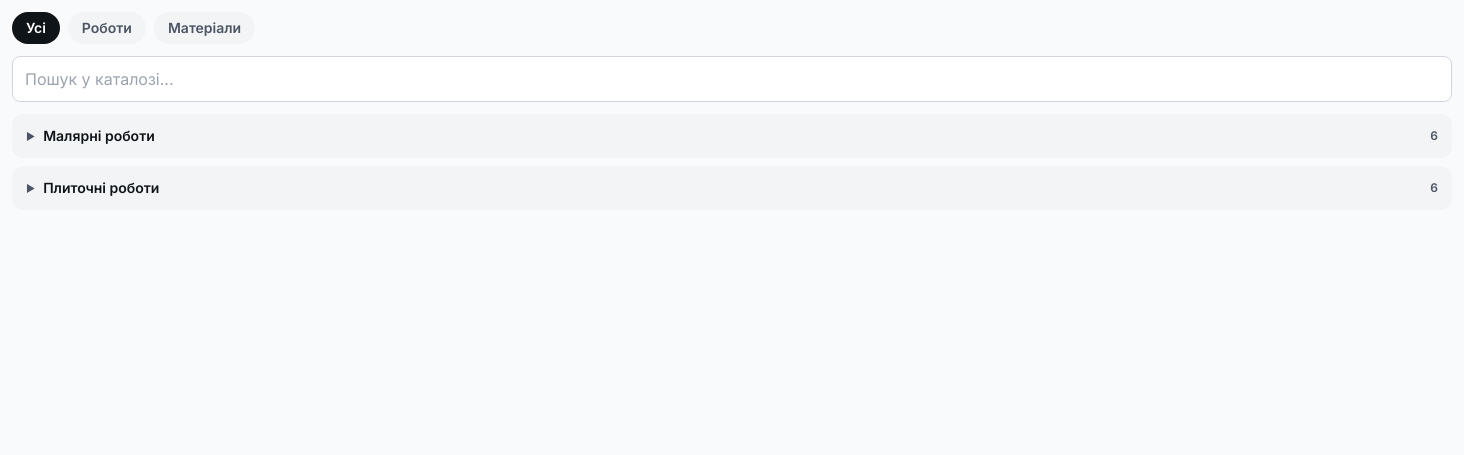
Test: CatalogPicker — categories are the structure › a folder collapsed while browsing cannot swallow a search hit
Click the button with test id "catalog-category" showing "▶ Малярні роботи 6". click: (99, 136)
box: [12,114,1452,158]
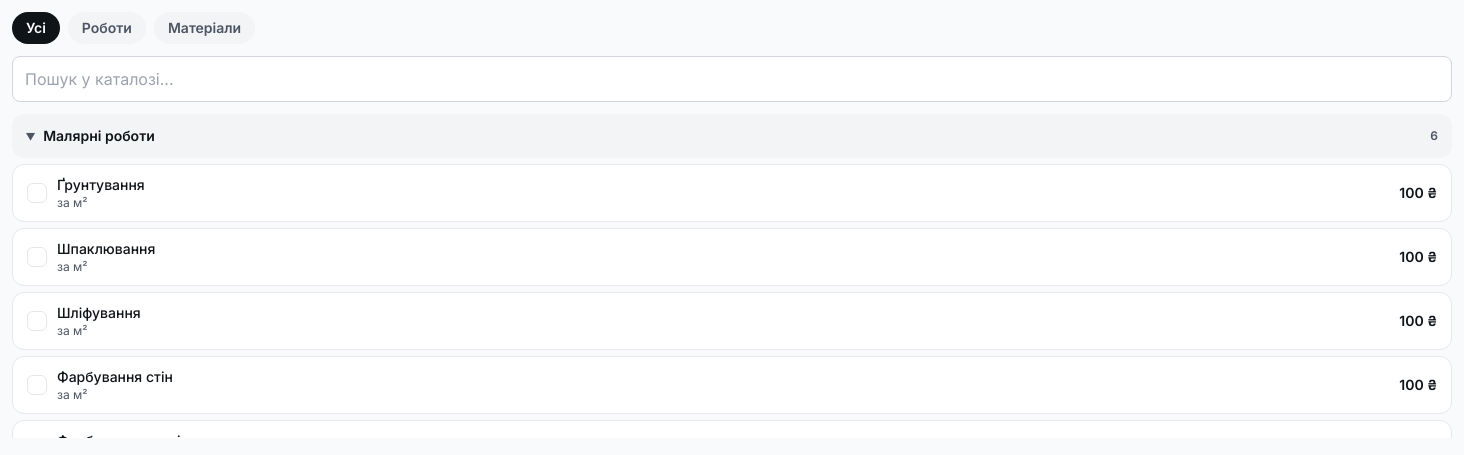
Click the button with test id "catalog-category". click: (99, 136)
box: [12,114,1452,158]
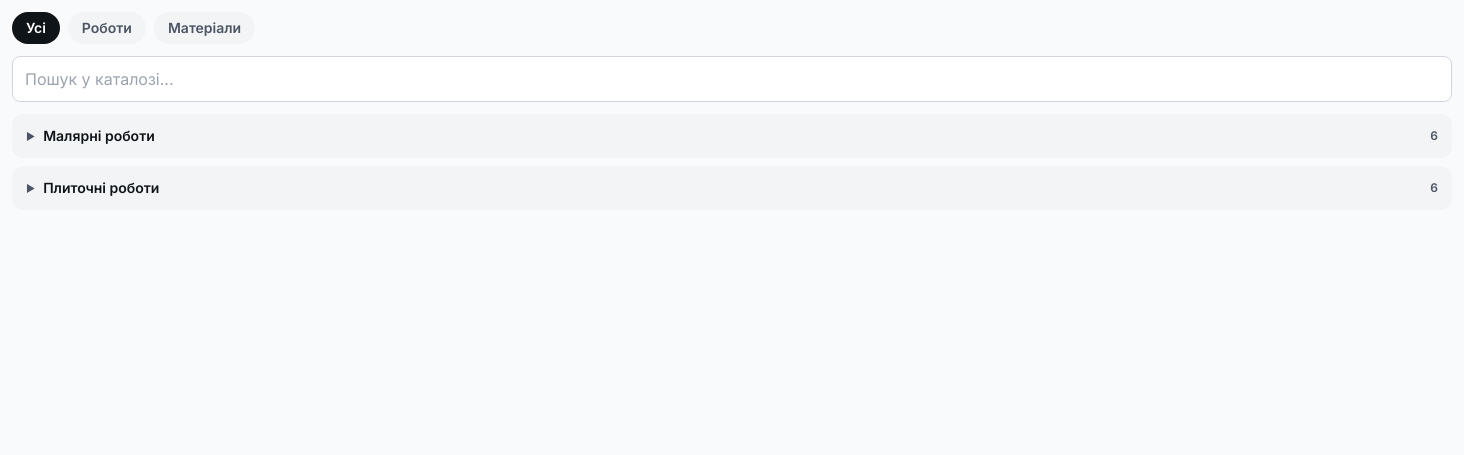
expect no buttons with test id "catalog-row" are shown: met
Type "ґрунт" into the search field with placeholder "Пошук у каталозі...". click: (732, 79)
box: [12,56,1452,102]
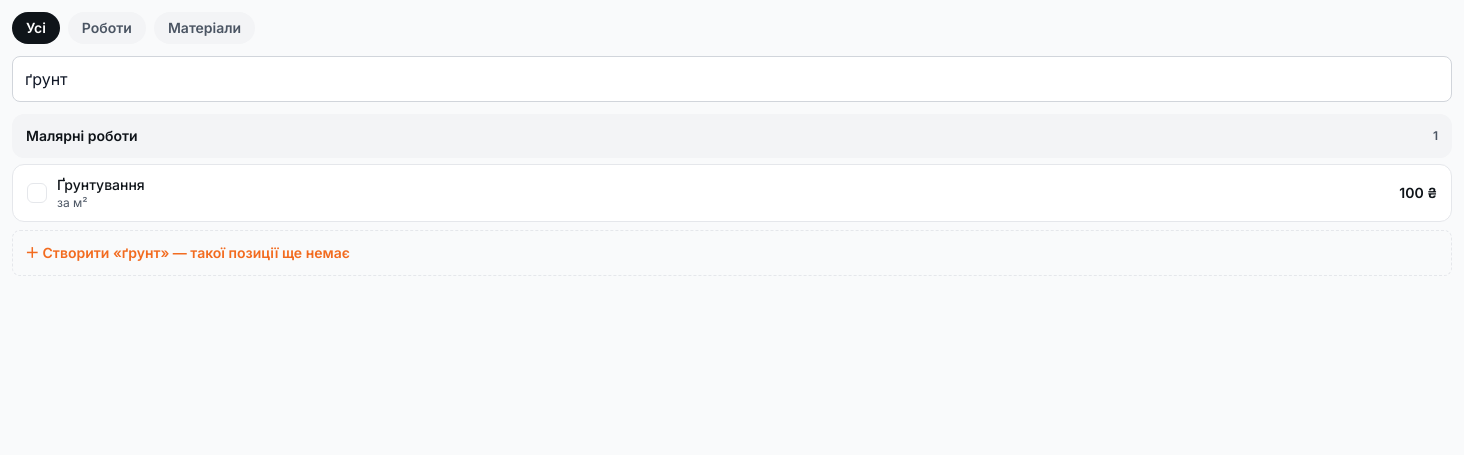
expect the number of buttons with test id "catalog-row" is 1: met, box [12,164,1452,222]
